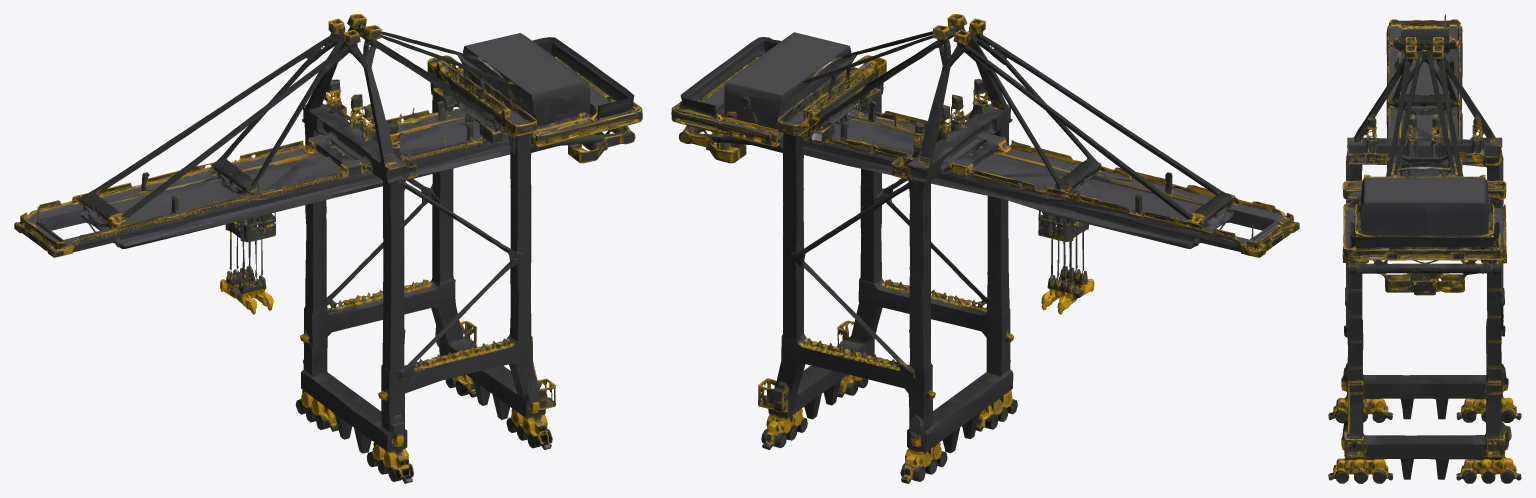
The model's file is port-gantry-crane-meshy6-web-v1.glb.
3 views of the same model, side by side, from view 1: azimuth 30°, elevation 25°; view 2: azimuth 150°, elevation 25°; view 3: azimuth 270°, elevation 25° (orthographic). The views are drawn at different scales.
Bounding box in the file's own units: 1.89 × 1.34 × 0.6262.
Materials: 1 (1 with a texture image).
